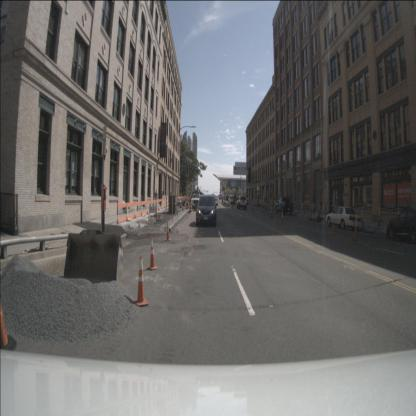human-pedestrian-adult: (320, 198, 324, 215), (159, 190, 163, 207), (154, 189, 158, 206)
movable_object-trafficcone: (0, 296, 17, 360), (133, 254, 149, 306), (147, 236, 158, 270), (352, 217, 359, 242), (164, 221, 171, 242), (377, 206, 382, 226), (360, 207, 365, 224), (332, 218, 336, 235), (188, 202, 193, 214), (315, 208, 319, 223), (270, 204, 274, 218), (308, 208, 311, 222), (281, 211, 284, 223), (228, 198, 231, 206)
vehicle-car: (386, 208, 415, 241), (326, 205, 362, 230), (196, 195, 216, 226), (190, 193, 202, 209), (237, 196, 247, 210), (228, 195, 235, 205), (224, 195, 230, 204)
vehicle-truck: (275, 196, 295, 214)
